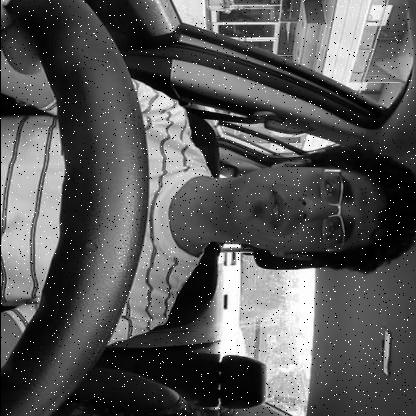no_seatbelt: (0, 104, 416, 276)
